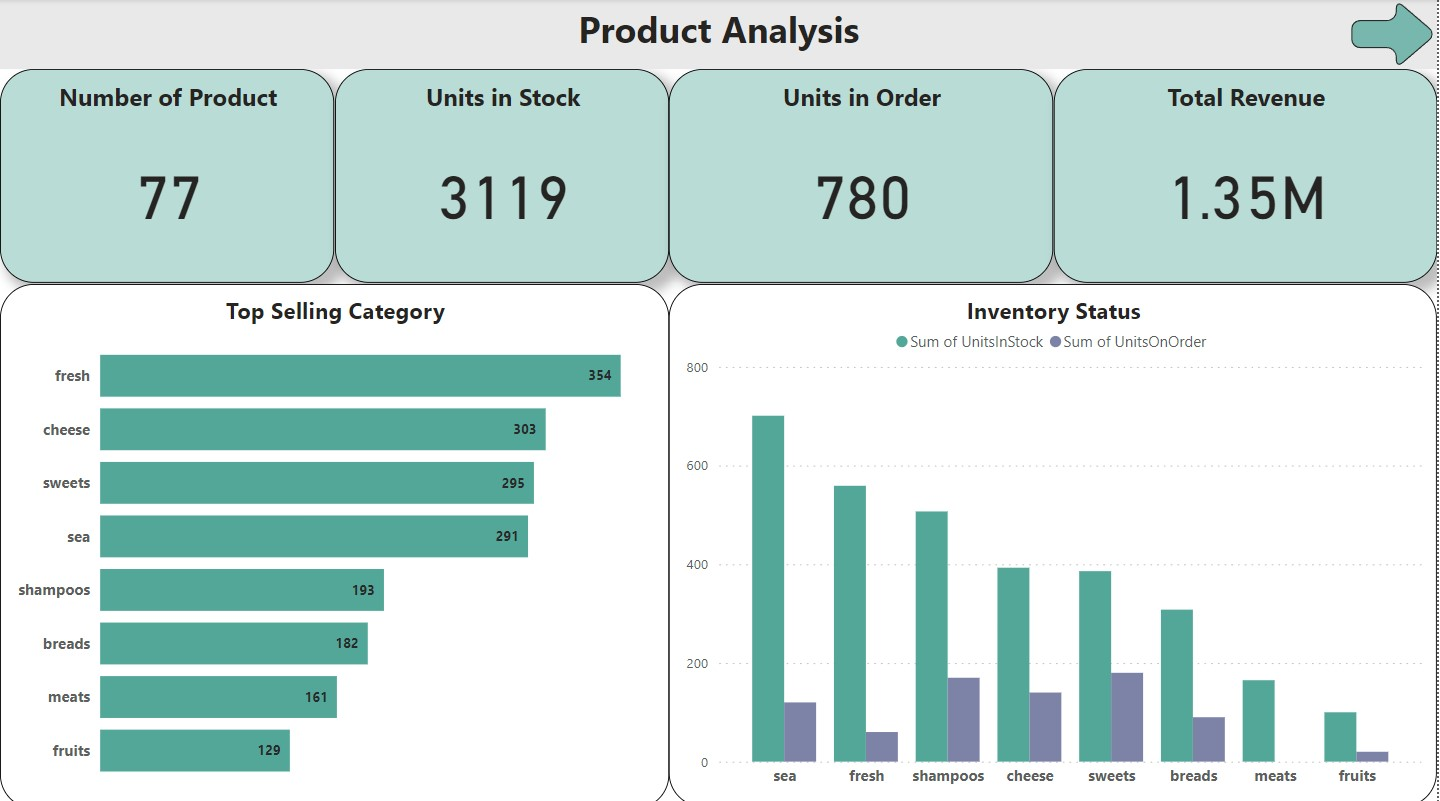

This screenshot's page, from the dashboard's own definition file:
{"tool":"powerbi","page":{"name":"product","canvas":[1280,720],"ordinal":0},"visuals":[{"type":"card","title":"Number of Product","fields":{"Values":["Count(Product)"]},"box":[0,62.7,298,190.6],"z":0},{"type":"card","title":"Units in Stock","fields":{"Values":["Sum(Product.UnitsInStock)"]},"box":[298,62.7,298,190.6],"z":1000},{"type":"card","title":"Units in Order","fields":{"Values":["Sum(Product.UnitsOnOrder)"]},"box":[596,62.7,342.6,190.6],"z":2000},{"type":"clusteredBarChart","title":"Top Selling Category","fields":{"Category":["Categories.CategoryName"],"Y":["Count(Orders)"]},"box":[0,253.4,596,466.9],"z":3000},{"type":"card","title":"Total Revenue","fields":{"Values":["Sum(OrdersDetails.total Revenue per Order)"]},"box":[938.6,62.7,341.4,190.6],"z":4000},{"type":"clusteredColumnChart","title":"Inventory Status","fields":{"Category":["Categories.CategoryName"],"Y":["Sum(Product.UnitsInStock)","Sum(Product.UnitsOnOrder)"]},"box":[596,253.4,684.1,465.7],"z":5000},{"type":"textbox","box":[0,0,1280,62.7],"z":6000},{"type":"shape","box":[1203.8,0,76.2,62.5],"z":7000}]}

Visuals, with their boxes in screenshot pixels (x1, y1, x2, y2), scaled from the page's 1280x720 canvas onto the 1440x801 screenshot:
"Number of Product" card: left=0, top=70, right=335, bottom=282
"Units in Stock" card: left=335, top=70, right=670, bottom=282
"Units in Order" card: left=670, top=70, right=1056, bottom=282
"Top Selling Category" clusteredBarChart: left=0, top=282, right=670, bottom=800
"Total Revenue" card: left=1056, top=70, right=1439, bottom=282
"Inventory Status" clusteredColumnChart: left=670, top=282, right=1439, bottom=800
textbox: left=0, top=0, right=1439, bottom=70
shape: left=1354, top=0, right=1439, bottom=70
